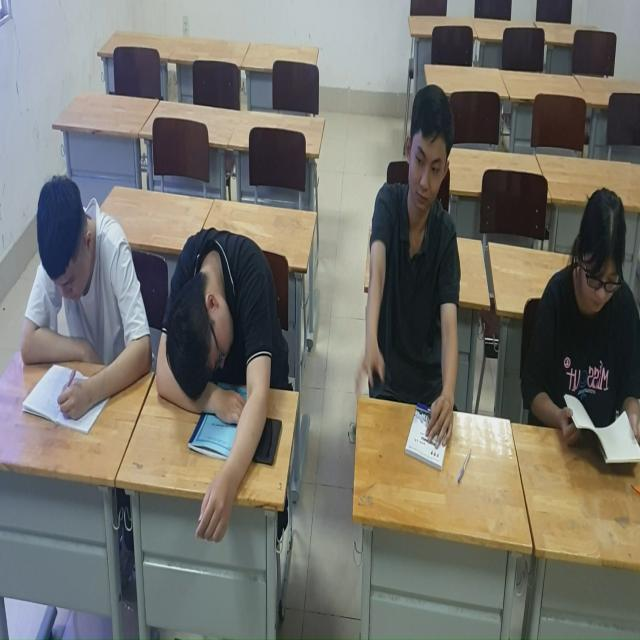read: (360, 80, 465, 447), (514, 187, 640, 485), (19, 165, 158, 429)
sleep: (155, 211, 282, 577)
